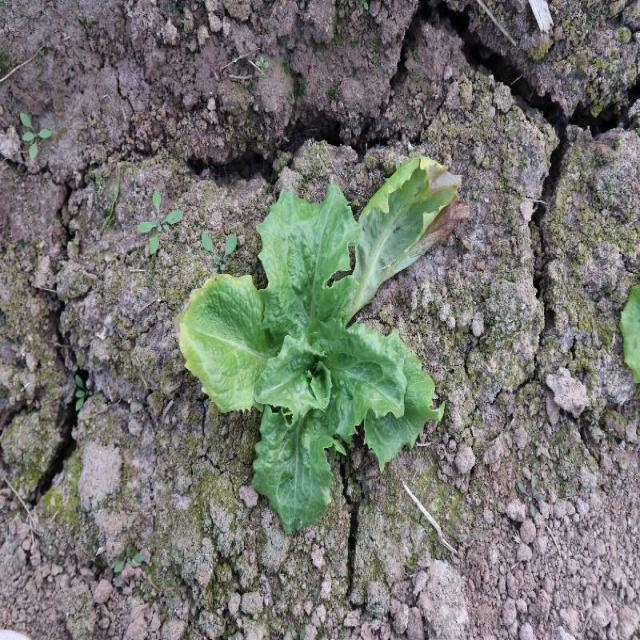crop: (176, 171, 430, 522)
